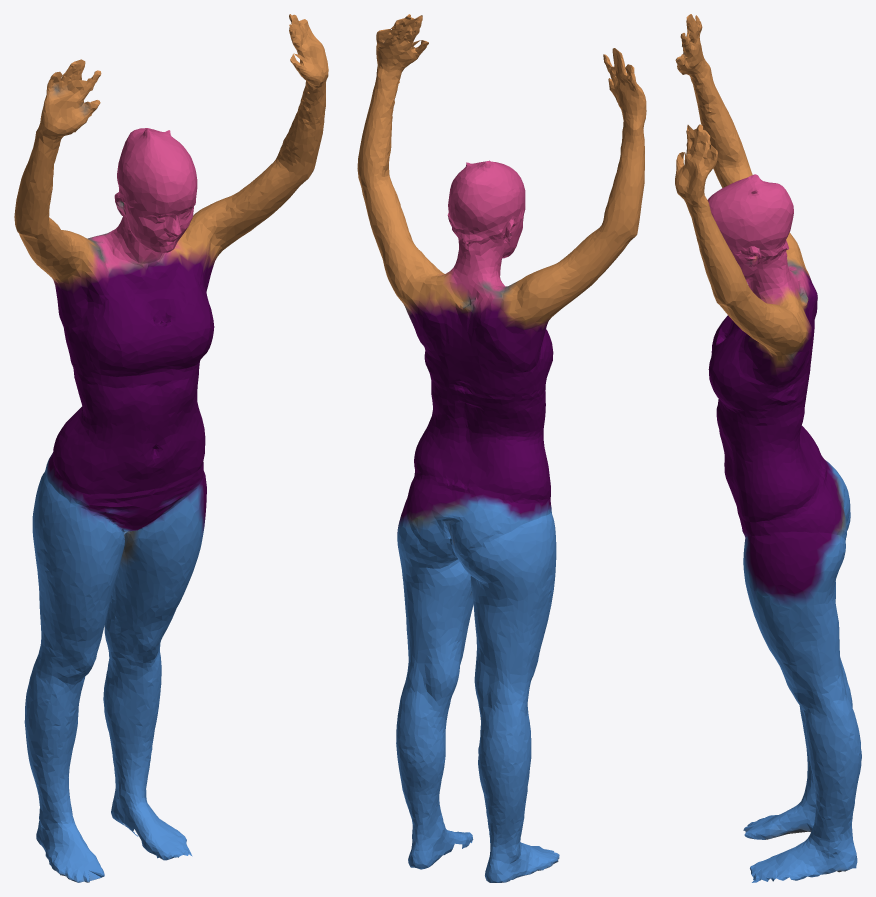
3 renders of one model, left to right at view 1: azimuth 30°, elevation 25°; view 2: azimuth 150°, elevation 25°; view 3: azimuth 270°, elevation 25°, orthographic. The views are drawn at different scales.
Parts seen in each view (by area): view 1: geometry_0; view 2: geometry_0; view 3: geometry_0.
Boxes of the visible parts, x1,y1,x2,y2 form: geometry_0: (14, 14, 328, 882); geometry_0: (357, 14, 646, 882); geometry_0: (675, 14, 861, 882).
Size of the model in its own units: 0.6964 by 1.91 by 0.4028.
